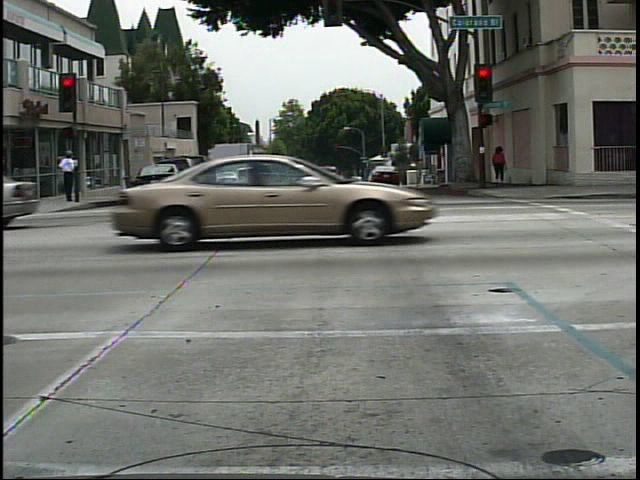person: (53, 143, 82, 205), (491, 143, 508, 183)
